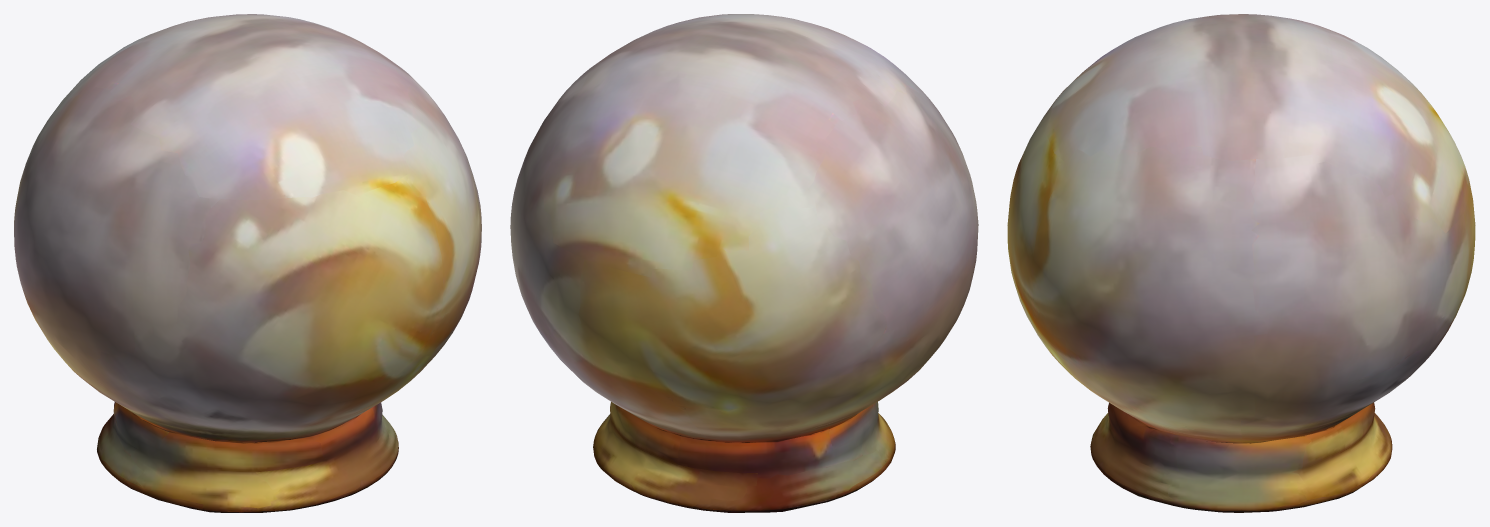
Rendered from hedge_orb.glb.
The picture shows the model from 3 angles, left to right: view 1: azimuth 30°, elevation 25°; view 2: azimuth 150°, elevation 25°; view 3: azimuth 270°, elevation 25°; orthographic projection.
Parts seen in each view (by area): view 1: world; view 2: world; view 3: world.
Boxes of the visible parts, x1,y1,x2,y2 form: world: [14, 14, 481, 512]; world: [510, 14, 978, 512]; world: [1007, 14, 1475, 512].
Bounding box in the file's own units: 0.2398 × 0.2377 × 0.2395.
1 material, 1 textured.
